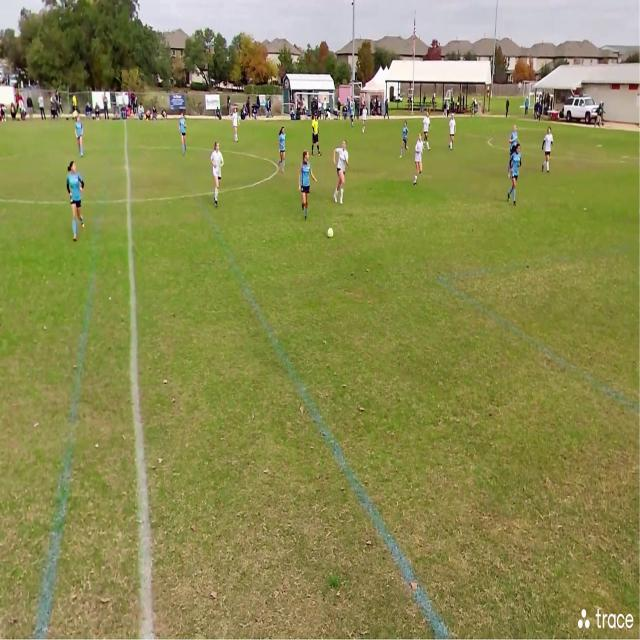ball: (328, 227, 335, 240)
team1: (68, 161, 87, 239), (299, 154, 315, 224), (508, 144, 523, 205), (277, 126, 287, 172), (510, 124, 520, 162), (77, 117, 86, 158), (178, 114, 187, 154), (402, 120, 411, 158), (349, 103, 356, 129)
team2: (334, 137, 351, 206), (210, 140, 227, 207), (414, 135, 426, 187), (542, 127, 554, 174), (448, 113, 457, 153), (422, 110, 431, 149), (231, 107, 240, 145), (361, 104, 368, 136)
